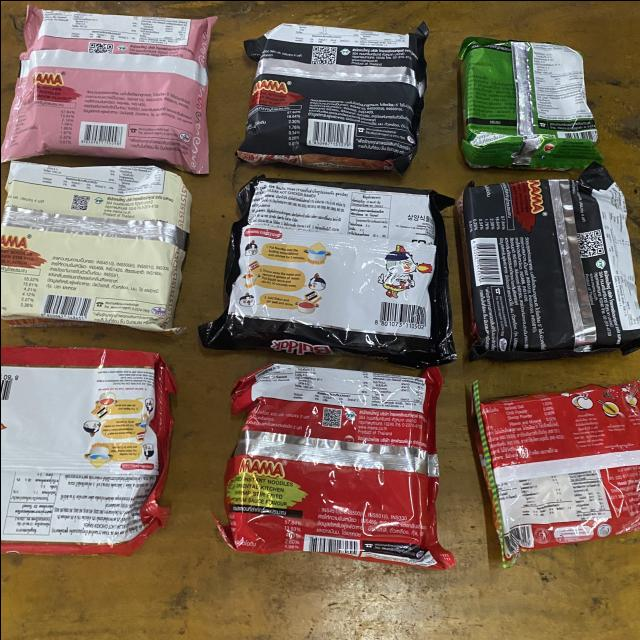plastik: (199, 175, 455, 367), (217, 363, 454, 568), (0, 346, 175, 555), (0, 4, 215, 172), (457, 163, 640, 360), (0, 161, 190, 331), (476, 381, 640, 560), (237, 23, 428, 172), (460, 37, 602, 168)
